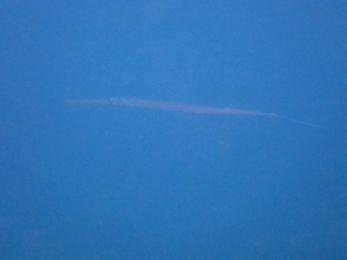Fistularia commersonii: (66, 70, 327, 147)
